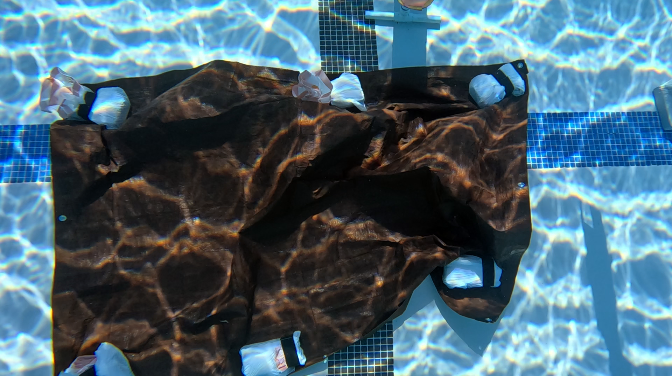pathmarker: (399, 0, 433, 10)
sandbag: (39, 58, 531, 375)
